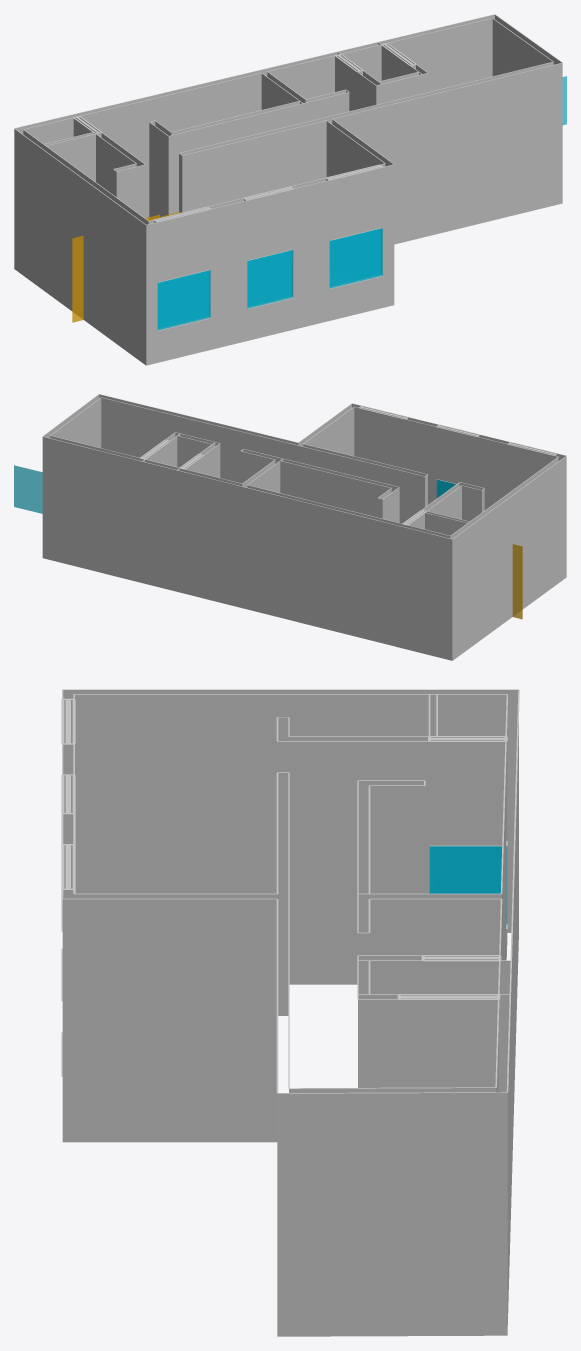
File: 9130586b-b09d-481c-b652-ecb8f106581b.glb
3 renders of one model, top to bottom at view 1: azimuth 30°, elevation 25°; view 2: azimuth 150°, elevation 25°; view 3: azimuth 270°, elevation 25°, orthographic. The views are drawn at different scales.
Visible parts, largest first — view 1: walls, windows, roof, doors; view 2: walls, roof, windows, doors; view 3: walls, roof, windows.
Part boxes in pixels (bbox=[...]): walls: bbox=[14, 14, 562, 365]; windows: bbox=[157, 76, 566, 330]; roof: bbox=[14, 14, 562, 224]; doors: bbox=[72, 212, 180, 322]; walls: bbox=[42, 394, 566, 660]; roof: bbox=[42, 394, 566, 539]; windows: bbox=[14, 465, 455, 513]; doors: bbox=[512, 544, 522, 619]; walls: bbox=[61, 690, 518, 1336]; roof: bbox=[62, 689, 519, 1093]; windows: bbox=[429, 846, 506, 928].
Bounding box in the file's own units: 14.1 × 3.5 × 5.98.
